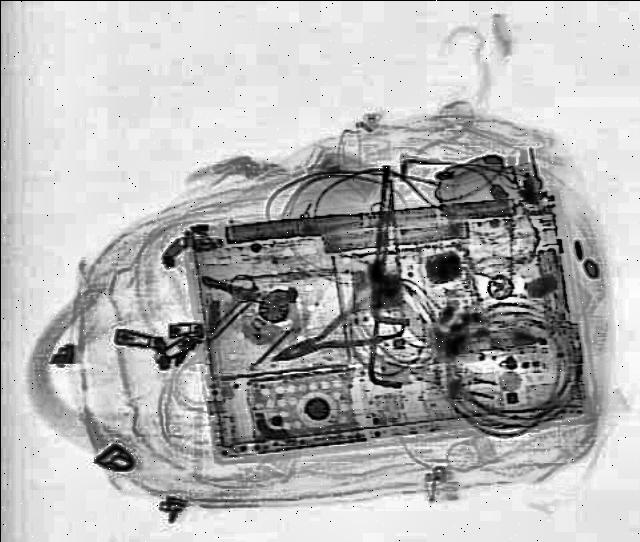Pliers: (256, 294, 392, 378)
